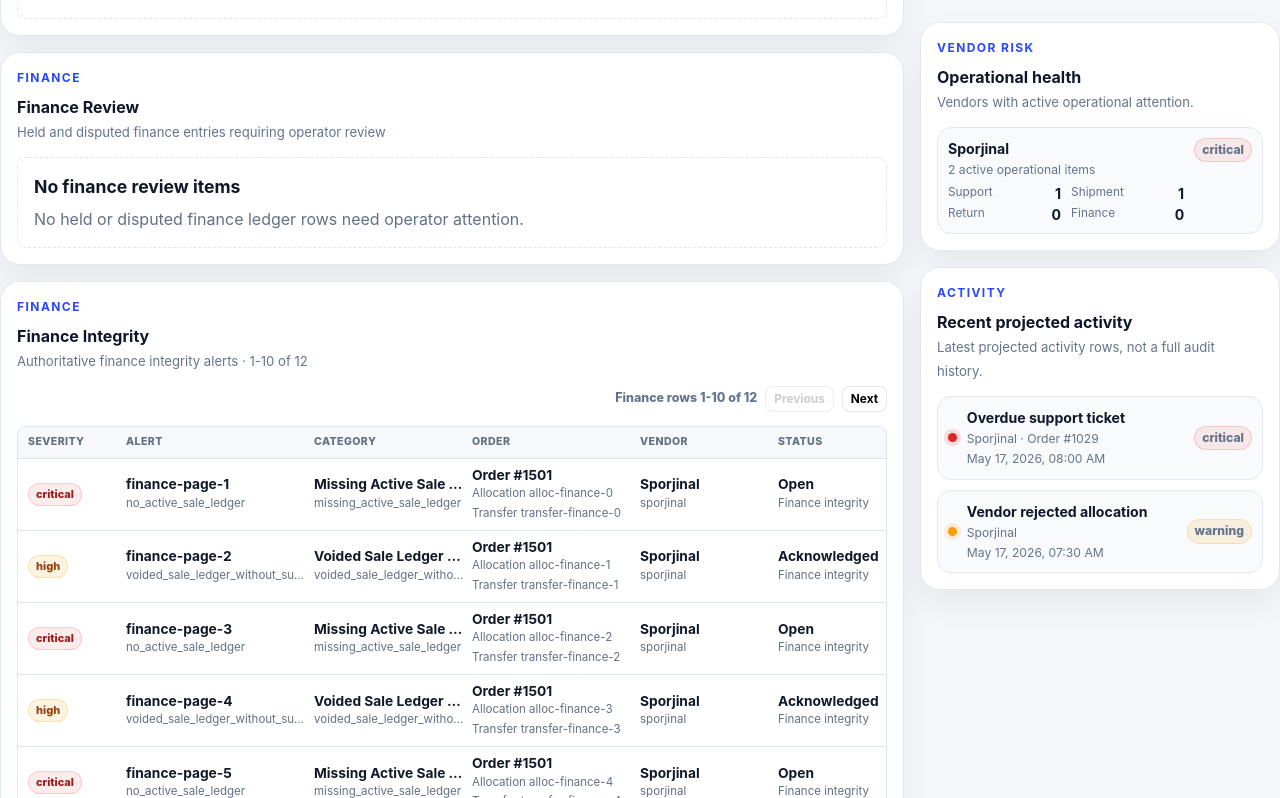
Test: AdminOperationsQueuePage attention center › pages Finance Integrity independently with authoritative totals and boundary controls
(page scrolled)
Expected: the text "Finance rows 1-10 of 12" is shown, [615, 389, 757, 408]
Expected: the button "Previous" is disabled, [765, 386, 834, 412]
Click the button "Next" at (864, 399), box [842, 386, 887, 412]
(page scrolled)
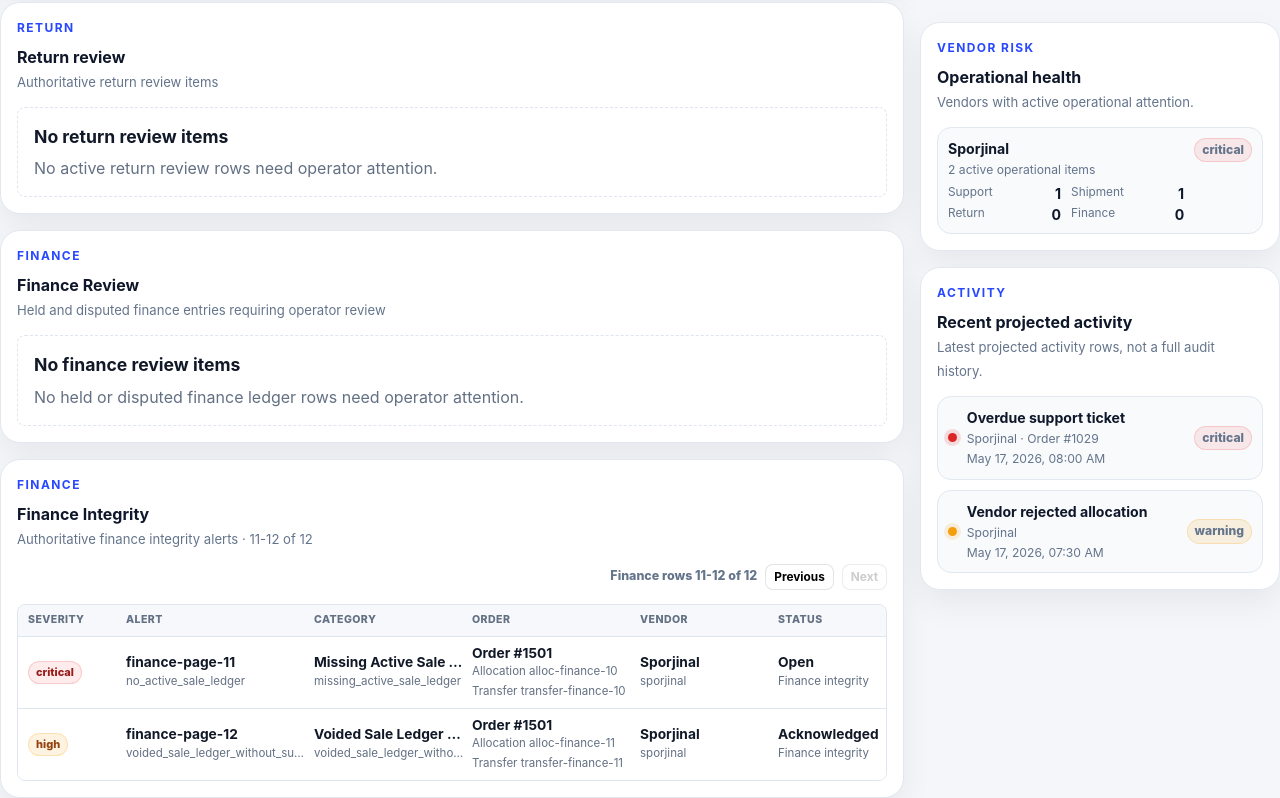
Result: the text "Finance rows 11-12 of 12" is shown at [610, 567, 757, 586]
Result: the text "finance-page-11" is shown at [126, 654, 235, 670]
Result: the button "Previous" is enabled
Click the button "Previous" at (800, 577), box [765, 564, 834, 590]
(page scrolled)
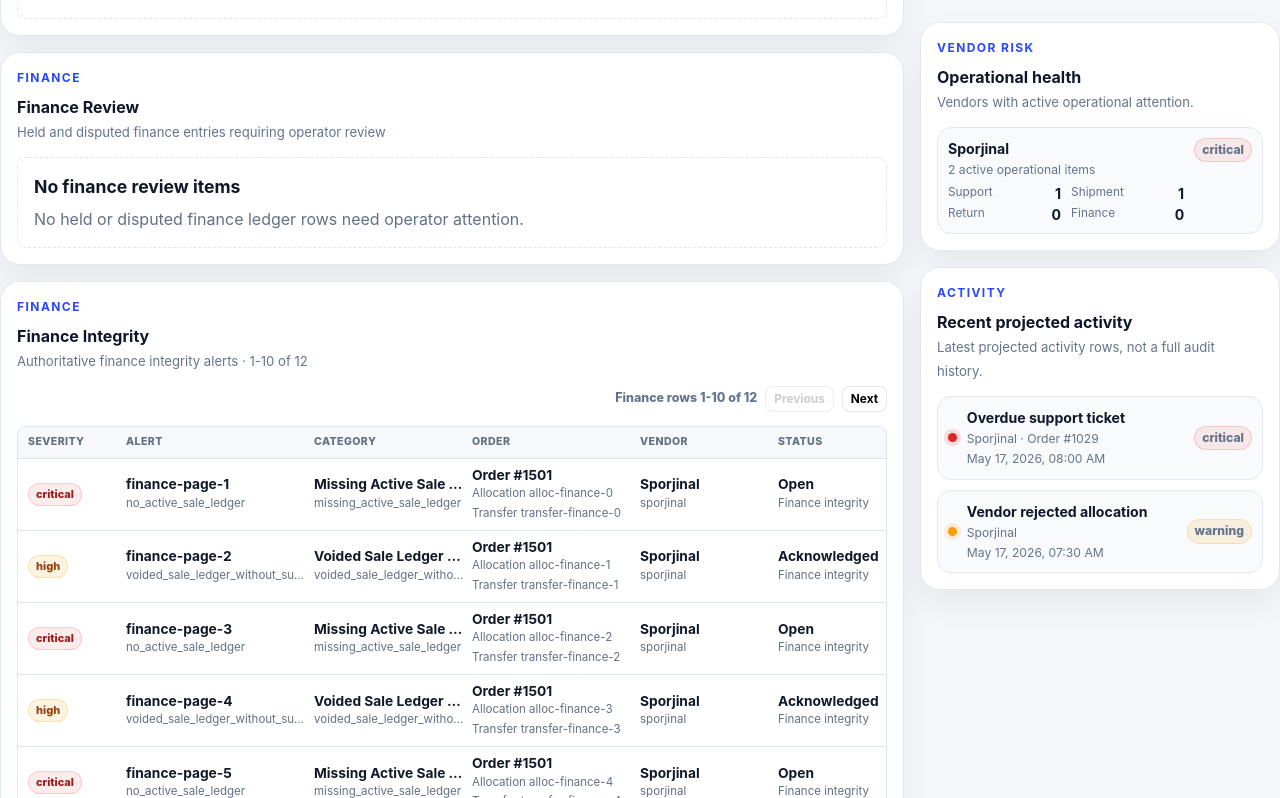
Result: the text "Finance rows 1-10 of 12" is shown at [615, 389, 757, 408]
